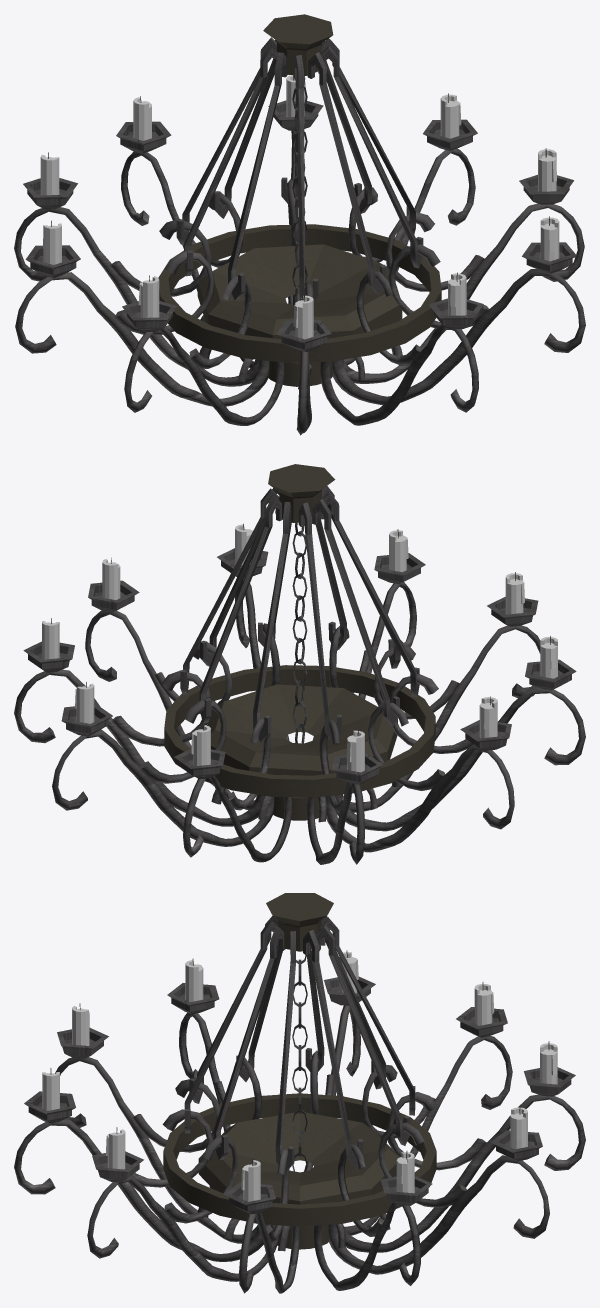
File: Chandelier.fbx
3 views of the same model, one above another, from view 1: azimuth 30°, elevation 25°; view 2: azimuth 150°, elevation 25°; view 3: azimuth 270°, elevation 25° (orthographic). The views are drawn at different scales.
Visible parts, largest first — view 1: S, Kasa, Dai, En, Go, Rou, Wa; view 2: S, Kasa, Dai, En, Go, Rou, Wa; view 3: S, Dai, Kasa, En, Go, Rou, Wa.
Part boxes in pixels (x1=…): S: x1=14, y1=130, x2=585, y2=435; Kasa: x1=176, y1=37, x2=423, y2=301; Dai: x1=197, y1=14, x2=402, y2=386; En: x1=158, y1=224, x2=441, y2=362; Go: x1=23, y1=100, x2=576, y2=352; Rou: x1=40, y1=75, x2=559, y2=339; Wa: x1=292, y1=76, x2=307, y2=302; S: x1=14, y1=578, x2=585, y2=864; Kasa: x1=180, y1=486, x2=419, y2=741; Dai: x1=207, y1=464, x2=397, y2=820; En: x1=164, y1=665, x2=435, y2=797; Go: x1=23, y1=548, x2=576, y2=784; Rou: x1=42, y1=524, x2=557, y2=772; Wa: x1=292, y1=523, x2=307, y2=743; S: x1=14, y1=1005, x2=585, y2=1293; Dai: x1=198, y1=893, x2=399, y2=1249; Kasa: x1=184, y1=915, x2=415, y2=1172; En: x1=163, y1=1093, x2=436, y2=1226; Go: x1=24, y1=976, x2=575, y2=1214; Rou: x1=42, y1=952, x2=557, y2=1201; Wa: x1=292, y1=955, x2=307, y2=1171.
Size of the model in its own units: 30.17 by 20.71 by 30.62.
